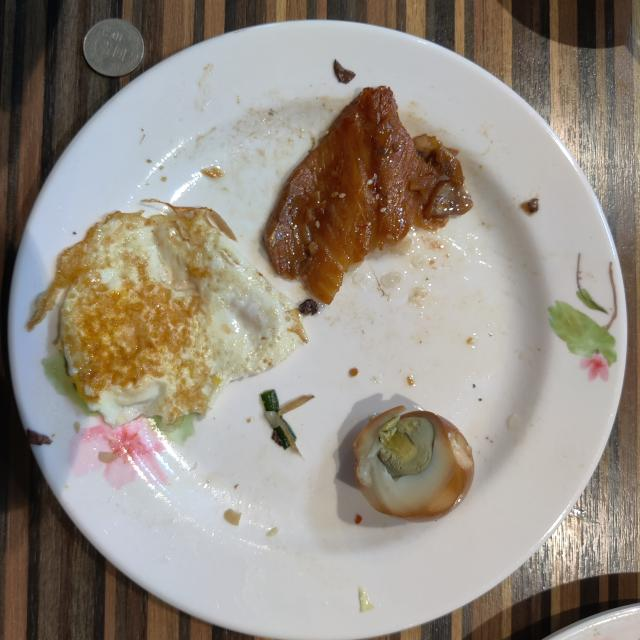Kabayaki sea bream fillet: (264, 86, 472, 304)
coin: (84, 19, 144, 76)
soy egg: (354, 406, 474, 521)
